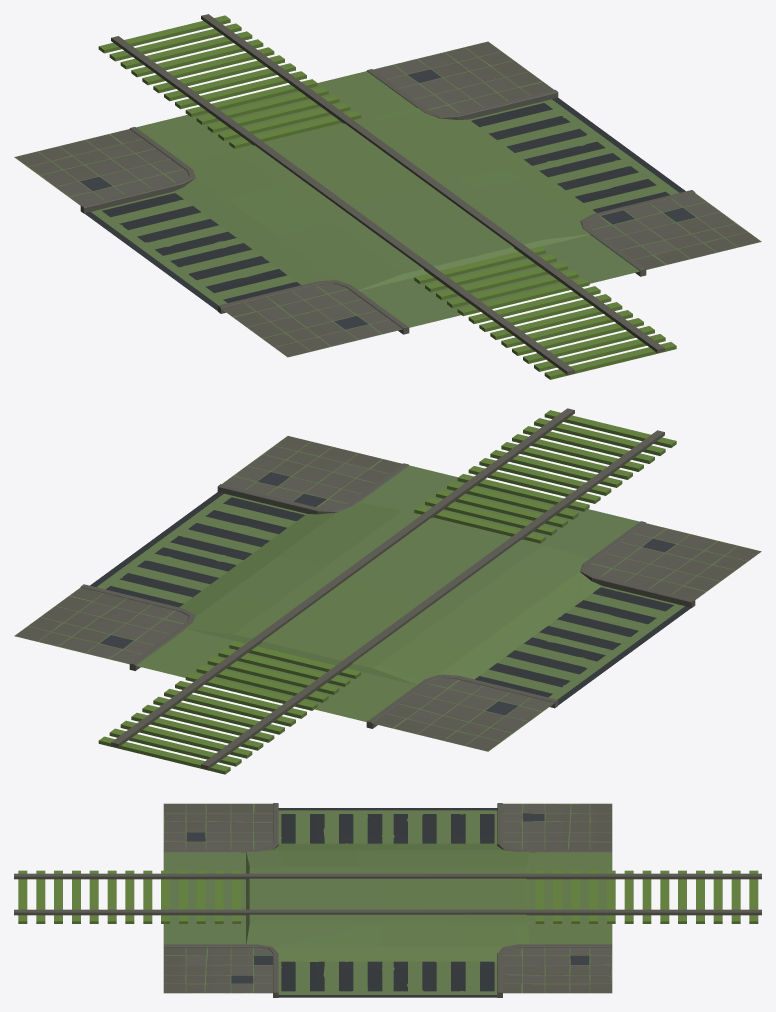
Rendered from Road_49.fbx.
3 renders of one model, top to bottom at view 1: azimuth 30°, elevation 25°; view 2: azimuth 150°, elevation 25°; view 3: azimuth 270°, elevation 25°, orthographic. The views are drawn at different scales.
Visible parts, largest first — view 1: Road_49; view 2: Road_49; view 3: Road_49.
Part boxes in pixels (x1,y1,x2,y2): Road_49: (14, 14, 761, 379); Road_49: (14, 408, 761, 774); Road_49: (14, 803, 761, 997).
Size of the model in its own units: 12 by 0.2892 by 20.
